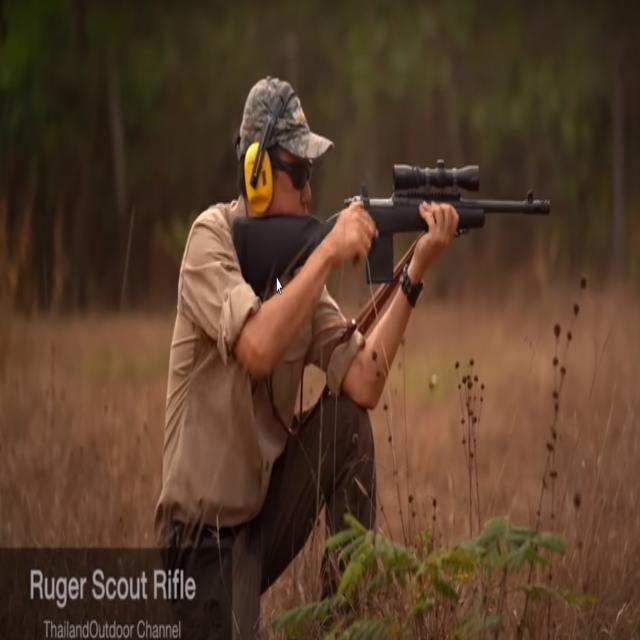rifle: (228, 150, 555, 314)
